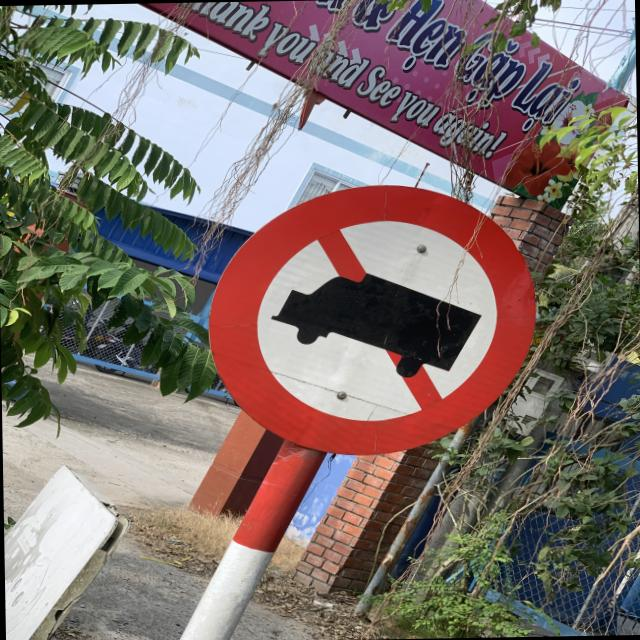Cam_Xe_Tai: (206, 175, 536, 459)
